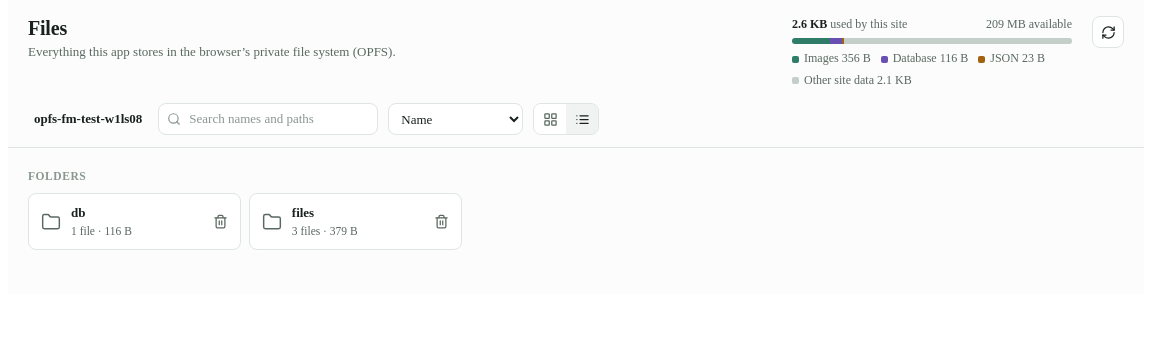
Scenario: OPFSFilesManager › lists detected types in list view
Click the button "files 3 files · 379 B" at (355,222), box [249,193,462,250]
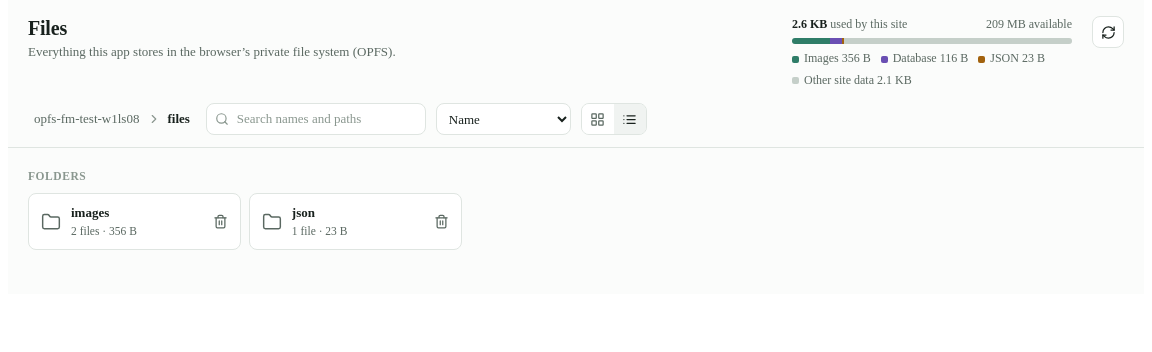
Click the button "images 2 files · 356 B" at (134,222), box [28,193,241,250]
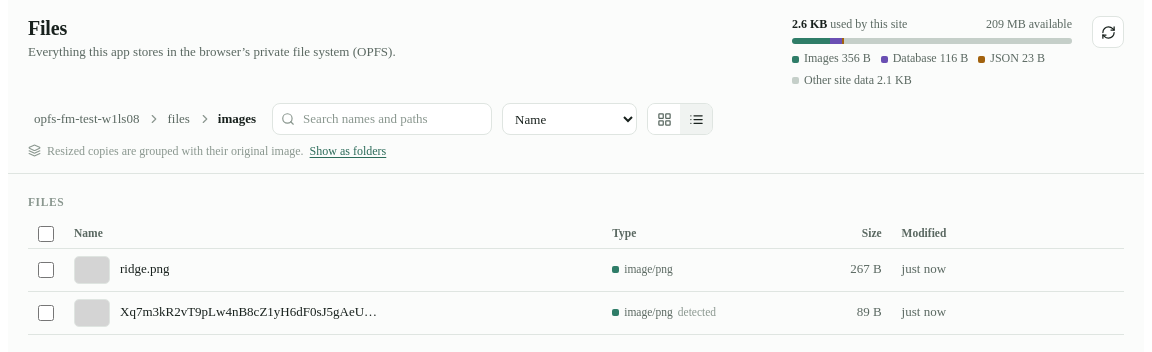
Result: the row "Xq7m3kR2vT9pLw4nB8cZ1yH6dF0sJ5gAeUoKiQrMtx" shows "image/png" at [624,306,673,318]
Result: the row "Xq7m3kR2vT9pLw4nB8cZ1yH6dF0sJ5gAeUoKiQrMtx" shows "detected" at [678,306,716,318]
